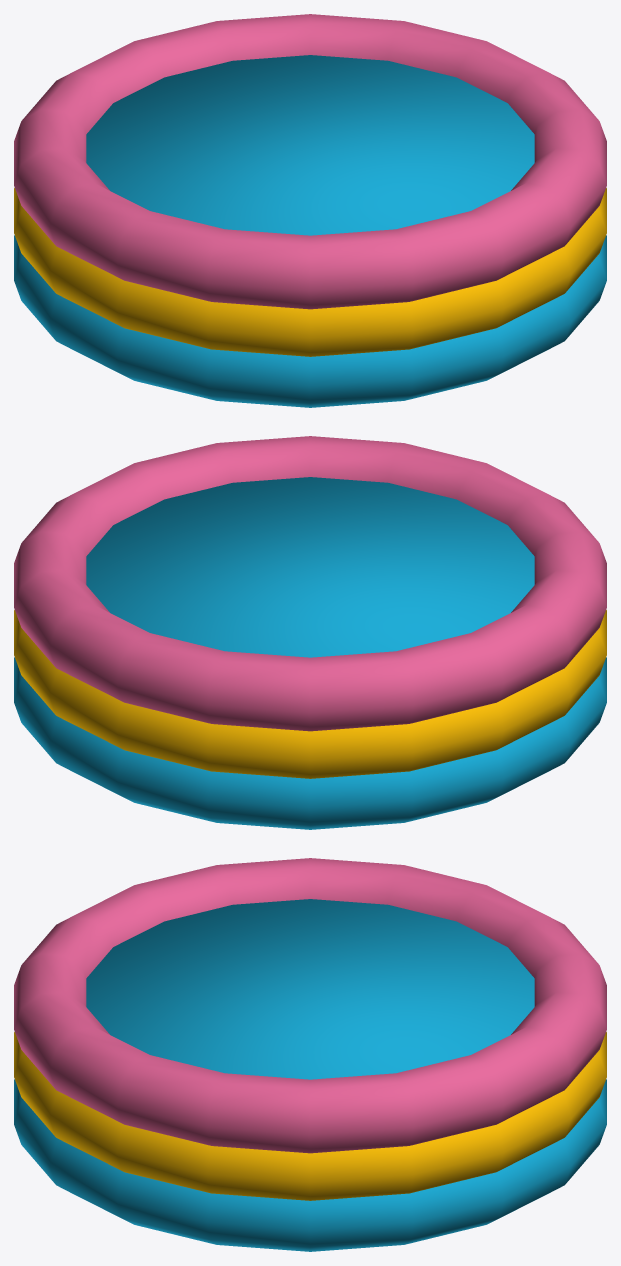
The model's file is InflatablePoolSmall.glb.
The picture shows the model from 3 angles, top to bottom: view 1: azimuth 30°, elevation 25°; view 2: azimuth 150°, elevation 25°; view 3: azimuth 270°, elevation 25°; orthographic projection.
Parts seen in each view (by area): view 1: InflatablePoolSmall_OuterRingTop, InflatablePoolSmall_InnerWall, InflatablePoolSmall_OuterRingBottom, InflatablePoolSmall_OuterRingMiddle; view 2: InflatablePoolSmall_OuterRingTop, InflatablePoolSmall_InnerWall, InflatablePoolSmall_OuterRingBottom, InflatablePoolSmall_OuterRingMiddle; view 3: InflatablePoolSmall_OuterRingTop, InflatablePoolSmall_InnerWall, InflatablePoolSmall_OuterRingBottom, InflatablePoolSmall_OuterRingMiddle.
Part boxes in pixels (box(x1,y1,x2,y2)): InflatablePoolSmall_OuterRingTop: box(14, 14, 606, 309); InflatablePoolSmall_InnerWall: box(86, 55, 534, 235); InflatablePoolSmall_OuterRingBottom: box(14, 235, 606, 407); InflatablePoolSmall_OuterRingMiddle: box(14, 188, 606, 356); InflatablePoolSmall_OuterRingTop: box(14, 436, 606, 731); InflatablePoolSmall_InnerWall: box(86, 477, 534, 657); InflatablePoolSmall_OuterRingBottom: box(14, 657, 606, 829); InflatablePoolSmall_OuterRingMiddle: box(14, 610, 606, 778); InflatablePoolSmall_OuterRingTop: box(14, 858, 606, 1153); InflatablePoolSmall_InnerWall: box(86, 899, 534, 1079); InflatablePoolSmall_OuterRingBottom: box(14, 1079, 606, 1251); InflatablePoolSmall_OuterRingMiddle: box(14, 1032, 606, 1200).
Size of the model in its own units: 3.56 by 1.06 by 3.51.
